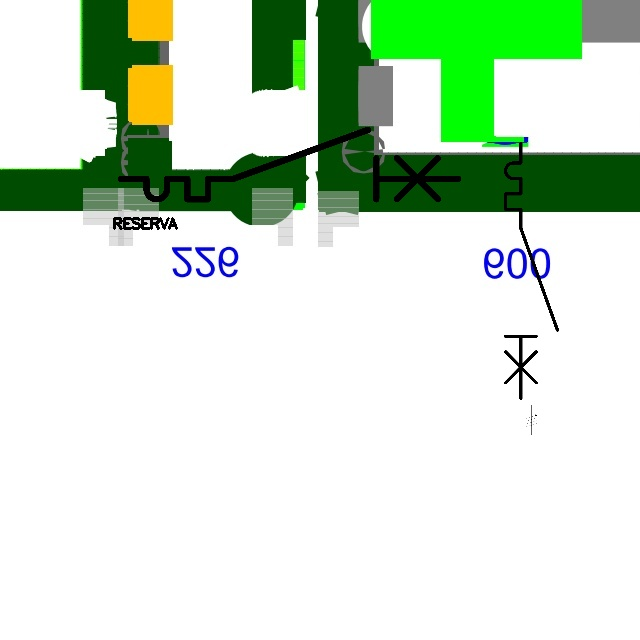interruptor_termomagnetico: (112, 121, 467, 208), (499, 137, 564, 404)
